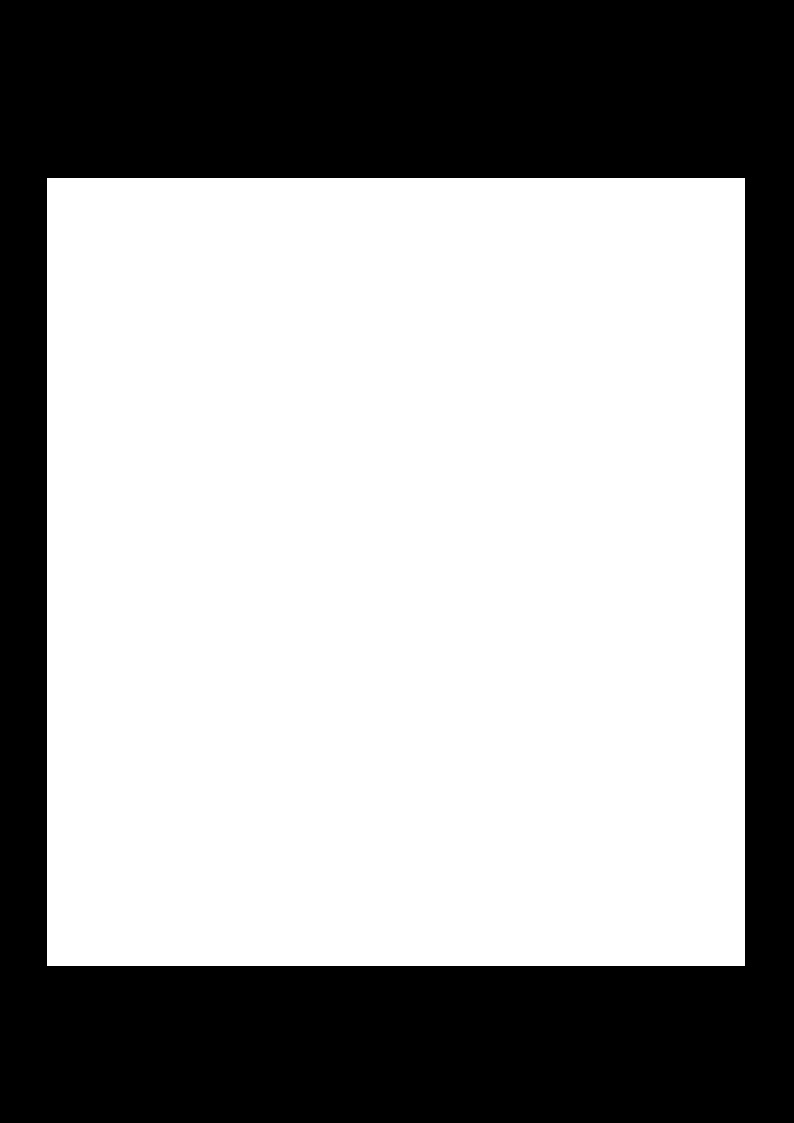table: (47, 178, 744, 965)
